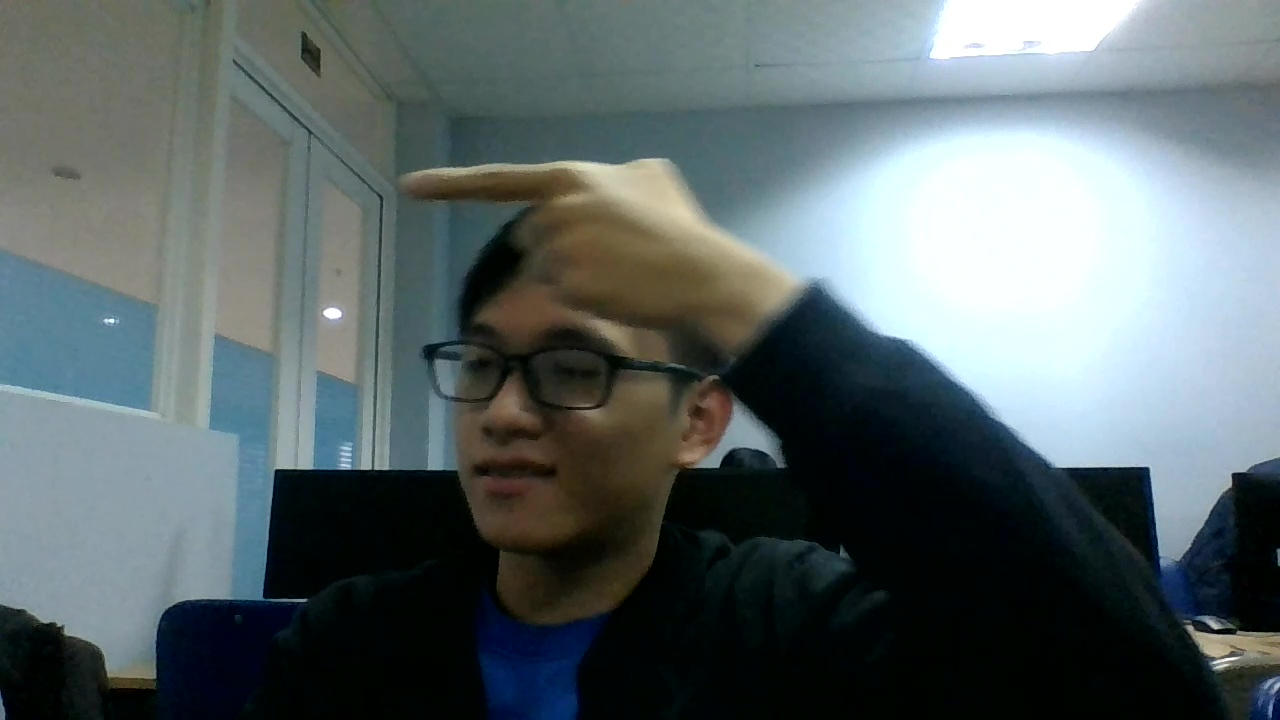right: (401, 154, 709, 321)
